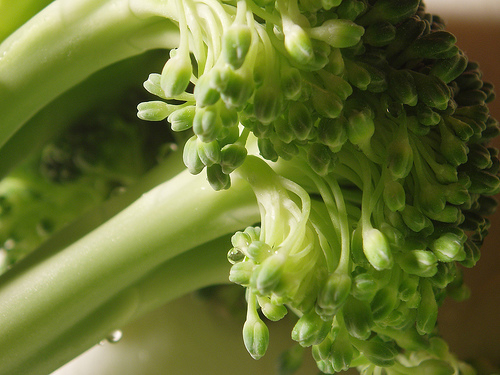broccoli: (0, 0, 498, 369)
